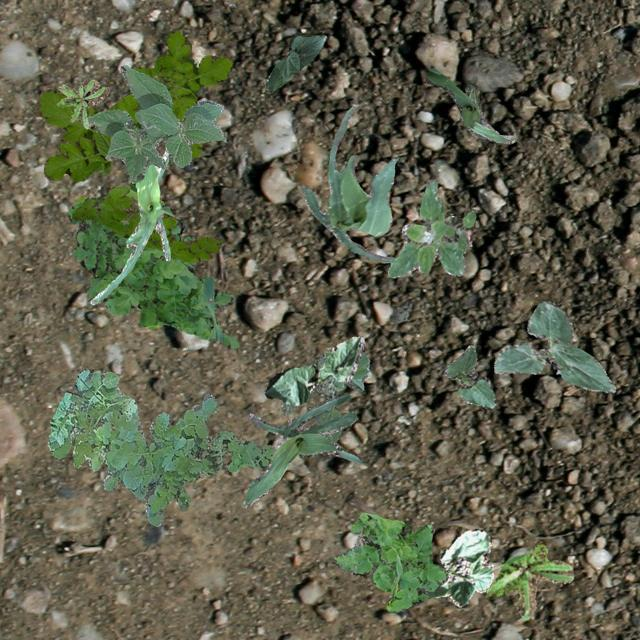crop: (86, 64, 224, 182), (300, 106, 396, 262), (242, 392, 362, 506), (90, 148, 170, 304), (494, 298, 614, 392), (264, 334, 364, 404), (424, 66, 514, 142), (423, 528, 492, 606), (262, 34, 326, 90), (444, 344, 494, 408)
weed: (46, 368, 274, 526), (34, 28, 232, 180), (66, 182, 238, 348), (70, 184, 222, 262), (332, 512, 448, 612), (386, 178, 474, 276), (278, 350, 368, 442), (486, 542, 572, 618), (56, 78, 108, 128)
